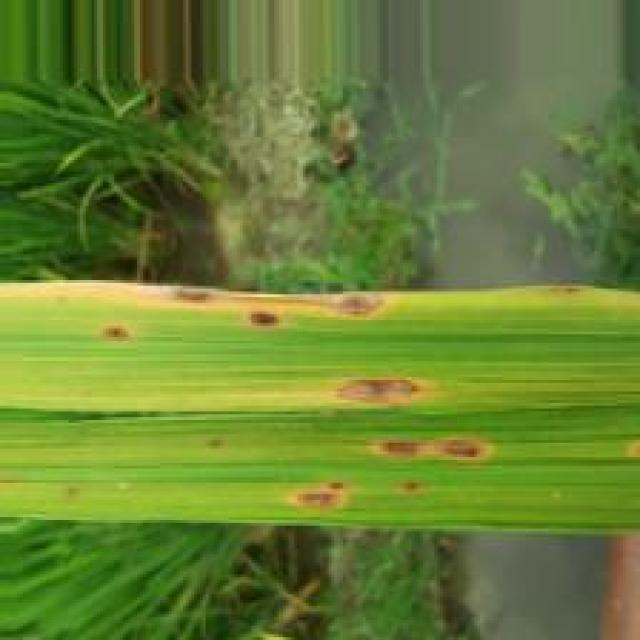Brown_Spot: (135, 284, 390, 321), (364, 436, 503, 465), (338, 378, 433, 409), (248, 312, 280, 326), (106, 324, 128, 341)
